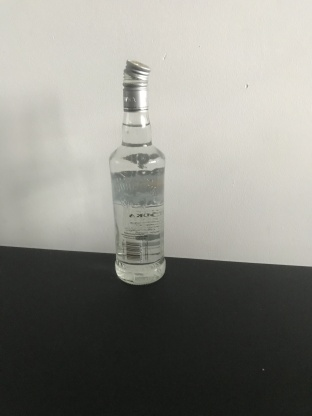nakretka: (121, 57, 152, 112)
